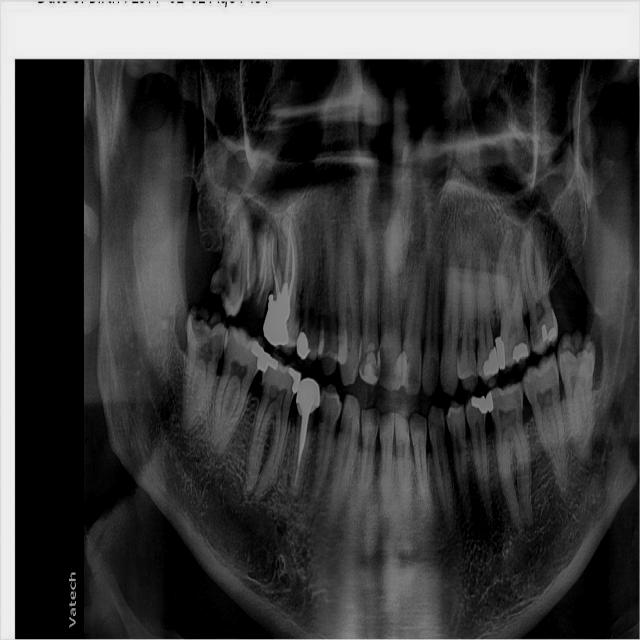Caries: (210, 259, 231, 313), (194, 309, 218, 343), (530, 322, 536, 344), (526, 331, 531, 351)
Crown: (296, 377, 322, 417)
Filling: (263, 283, 290, 347), (359, 342, 381, 385), (483, 346, 498, 377), (251, 342, 266, 370), (495, 336, 506, 371), (400, 350, 409, 392), (296, 332, 309, 360), (261, 353, 279, 372), (471, 395, 488, 414), (512, 341, 528, 361), (393, 353, 401, 391), (289, 369, 301, 394), (486, 392, 493, 413), (542, 324, 548, 341), (549, 327, 556, 341)
Periapical lesion: (224, 183, 249, 216), (287, 474, 305, 503), (523, 506, 537, 530), (260, 486, 277, 502), (248, 481, 258, 499)
Root Canal Treatment: (294, 413, 309, 485), (271, 236, 280, 295), (288, 225, 295, 300), (285, 211, 291, 282)
Root Piece: (251, 221, 272, 317), (240, 210, 257, 311)
impacted tooth: (558, 338, 594, 459)
